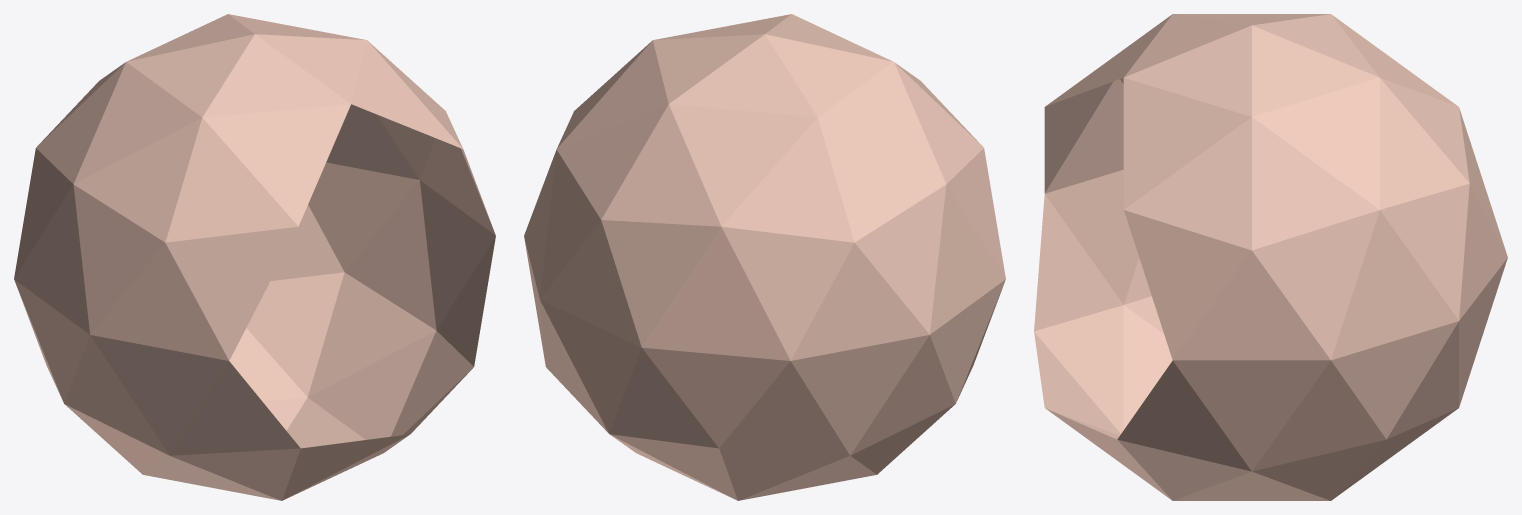
Rendered from asset3d-min.glb.
3 renders of one model, left to right at view 1: azimuth 30°, elevation 25°; view 2: azimuth 150°, elevation 25°; view 3: azimuth 270°, elevation 25°, orthographic. The views are drawn at different scales.
Parts seen in each view (by area): view 1: Icosphere; view 2: Icosphere; view 3: Icosphere.
Boxes of the visible parts, box(x1,y1,x2,y2) form: Icosphere: box(14, 14, 495, 500); Icosphere: box(524, 14, 1005, 500); Icosphere: box(1034, 14, 1507, 500).
Size of the model in its own units: 1.9 by 2 by 1.85.
